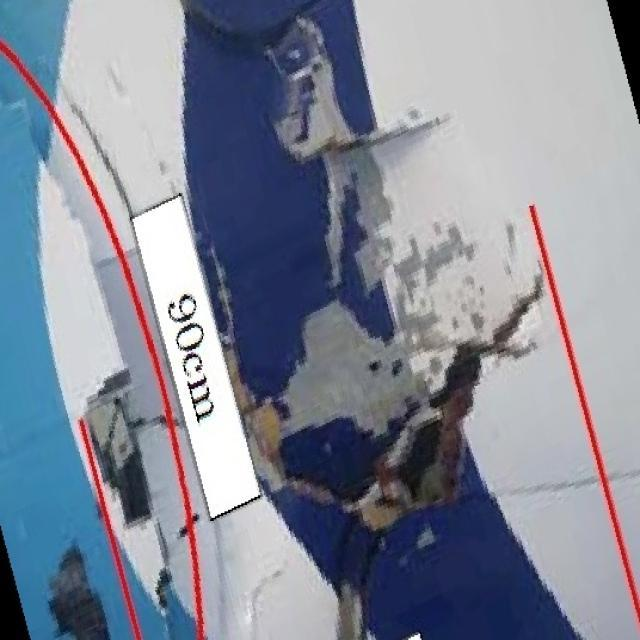crack: (294, 277, 549, 640)
